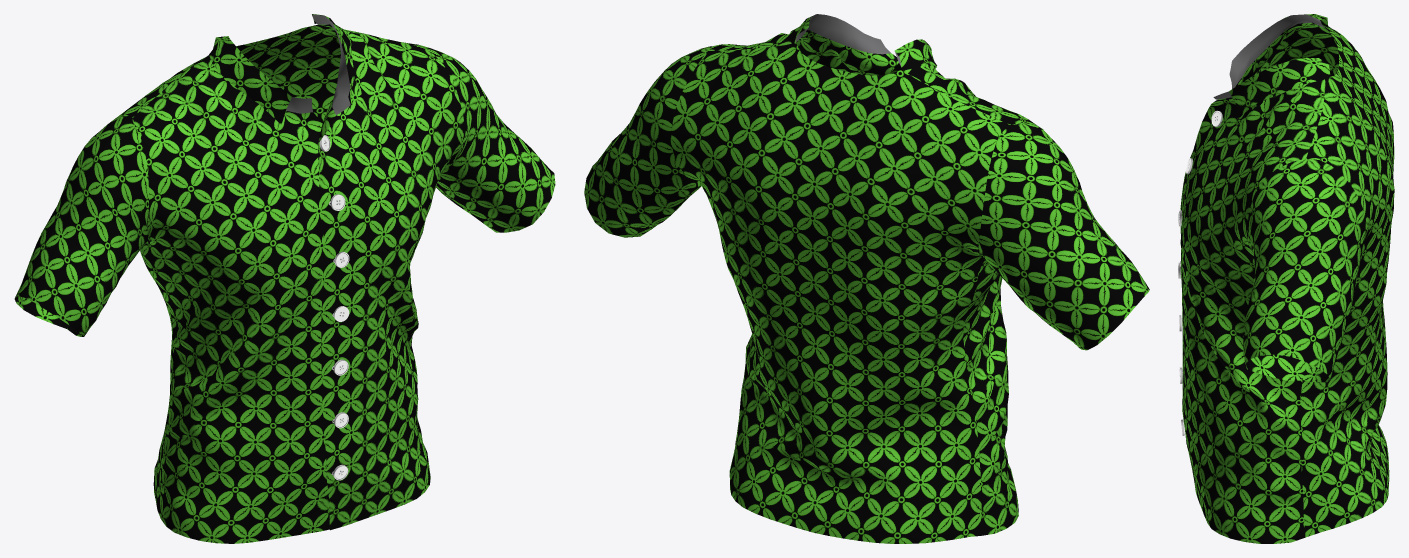
The model's file is Baju_Pendek.fbx.
The picture shows the model from 3 angles, left to right: view 1: azimuth 30°, elevation 25°; view 2: azimuth 150°, elevation 25°; view 3: azimuth 270°, elevation 25°; orthographic projection. The views are drawn at different scales.
Visible parts, largest first — view 1: Baju_Pendek.001; view 2: Baju_Pendek.001; view 3: Baju_Pendek.001.
Boxes of the visible parts, x1,y1,x2,y2 form: Baju_Pendek.001: (14, 14, 555, 543); Baju_Pendek.001: (584, 14, 1149, 543); Baju_Pendek.001: (1178, 14, 1394, 543).
Size of the model in its own units: 736 by 619 by 268.
Materials: 4 (2 with a texture image).
